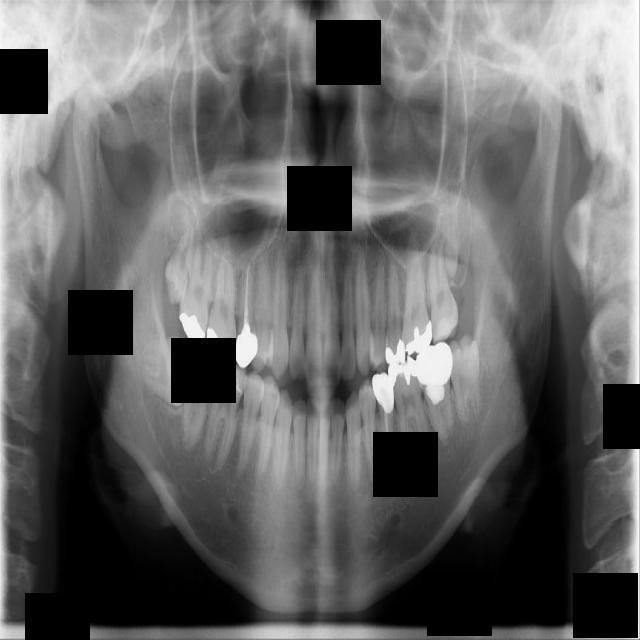3M ESPE Implant: (159, 217, 198, 308)
52: (414, 343, 454, 390), (179, 286, 209, 348), (398, 312, 436, 360), (386, 356, 426, 400), (207, 305, 237, 359), (211, 357, 247, 402), (370, 372, 396, 415), (235, 326, 259, 369), (386, 330, 405, 367)
73: (235, 259, 256, 337), (377, 402, 397, 475), (628, 618, 637, 627)
BioHorizons Implant: (424, 235, 461, 345)
BioLife Implant: (445, 184, 459, 277)
Biomet 3i Implant: (445, 332, 486, 426)
Blue Sky Bio Implant: (415, 342, 454, 443)
Caries: (176, 233, 216, 349)
Implant: (183, 342, 216, 451)
Keystone Dental Implant: (142, 336, 188, 406)
